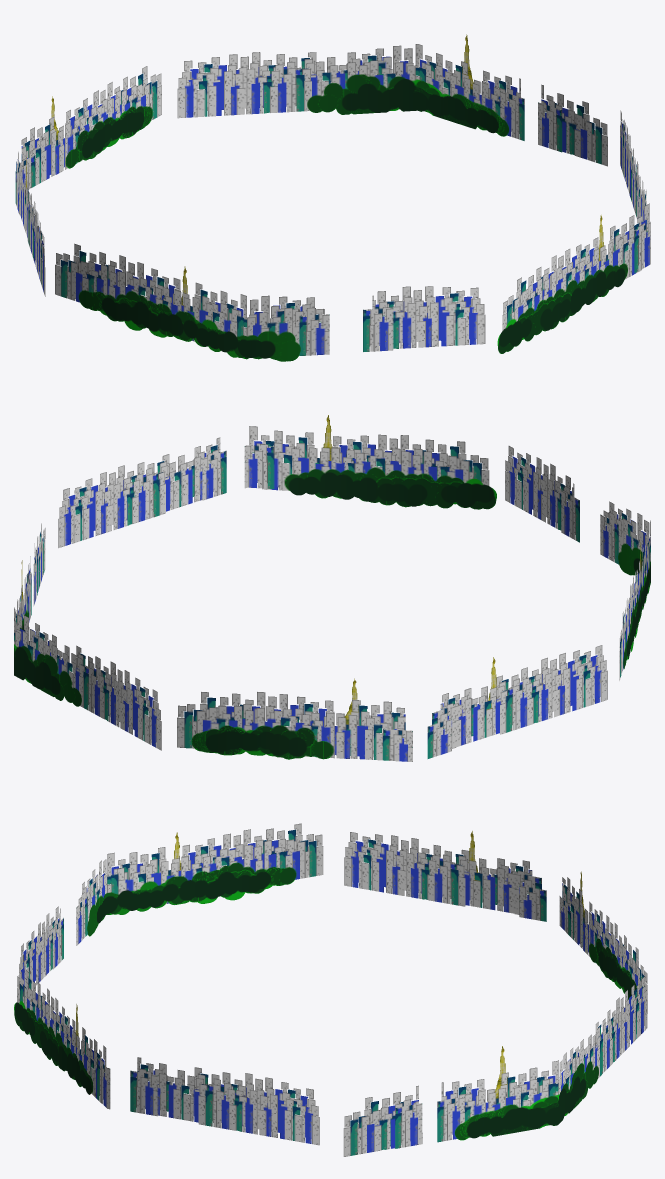
The model's file is buildings.obj.
3 views of the same model, one above another, from view 1: azimuth 30°, elevation 25°; view 2: azimuth 150°, elevation 25°; view 3: azimuth 270°, elevation 25° (orthographic). The views are drawn at different scales.
Visible parts, largest first — view 1: Cylinder; view 2: Cylinder; view 3: Cylinder.
Boxes of the visible parts, box(x1,y1,x2,y2) form: Cylinder: box(15, 34, 650, 361); Cylinder: box(14, 415, 650, 761); Cylinder: box(14, 823, 647, 1156).
Bounding box in the file's own units: 20 × 3.24 × 20.
Materials: 1 (1 with a texture image).
